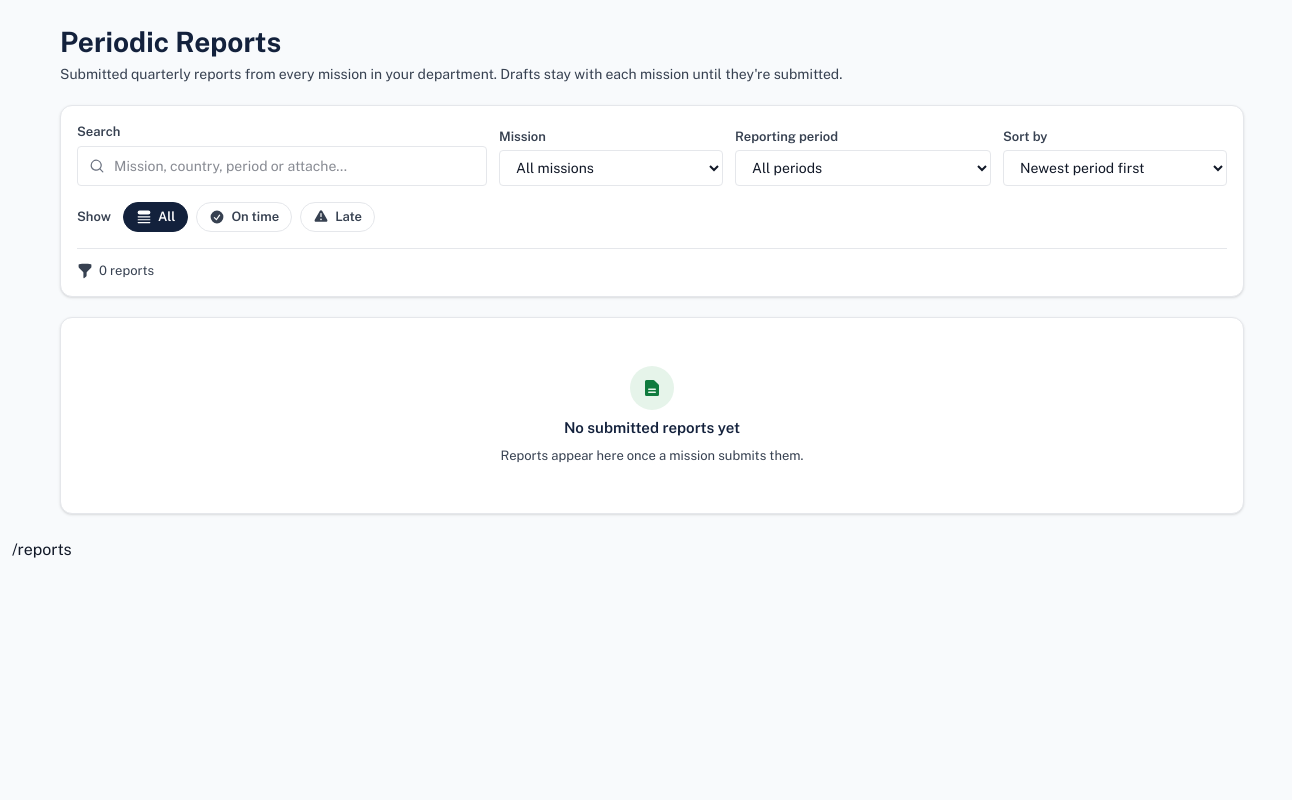
Test: ReportListPage › explains an empty list, and a filtered one that matches nothing
Expected: the text "No submitted reports yet" is shown, [564,418,740,438]
Click the button "Late": (338, 217) [300,202,375,232]
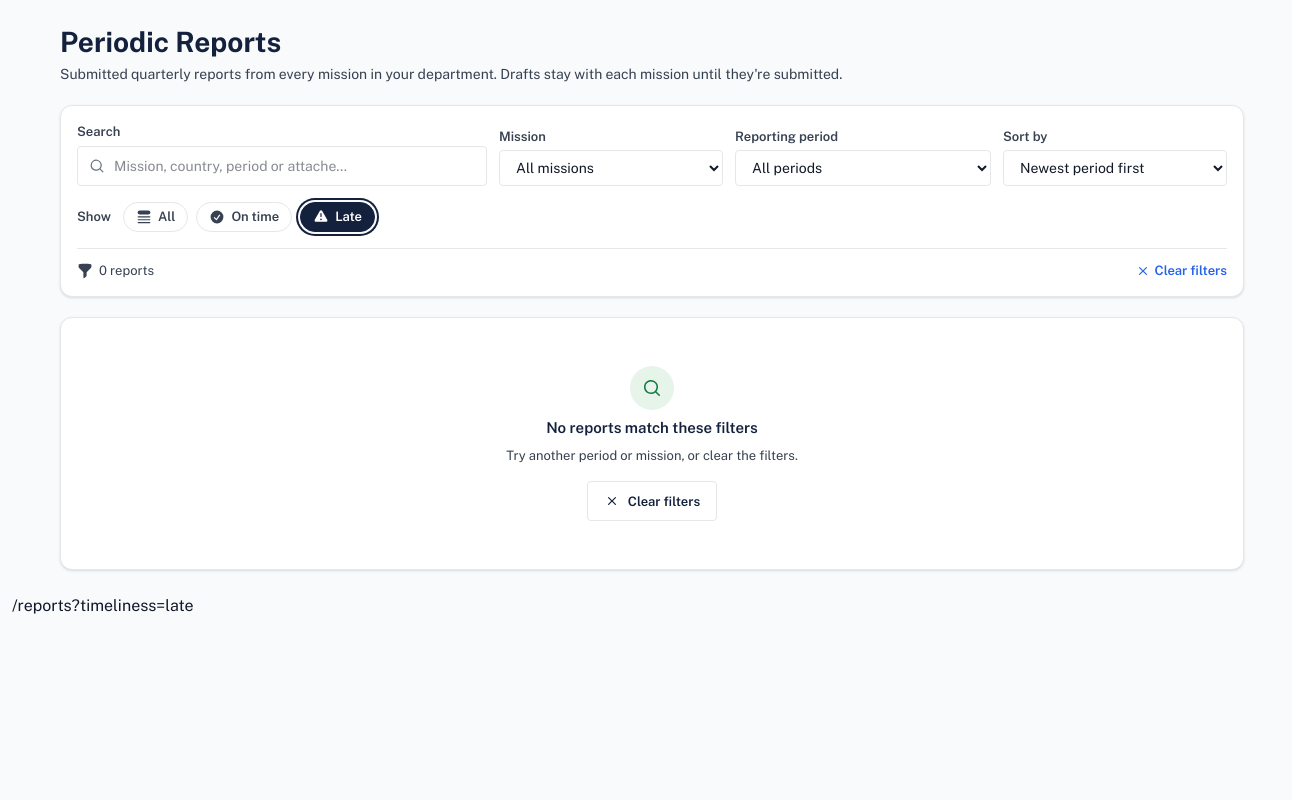
Expected: the text "No reports match these filters" is shown, [546,418,758,438]
